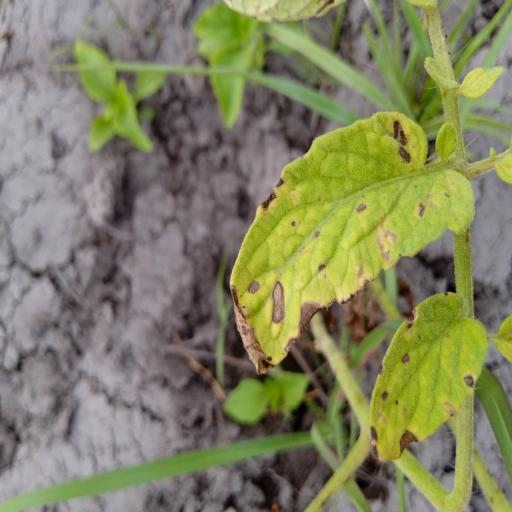Tomato_Brown_Spots: (224, 109, 472, 373), (372, 292, 489, 465)
